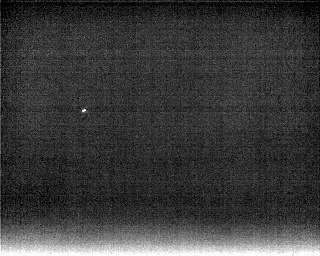BIRD: (80, 106, 89, 116)
